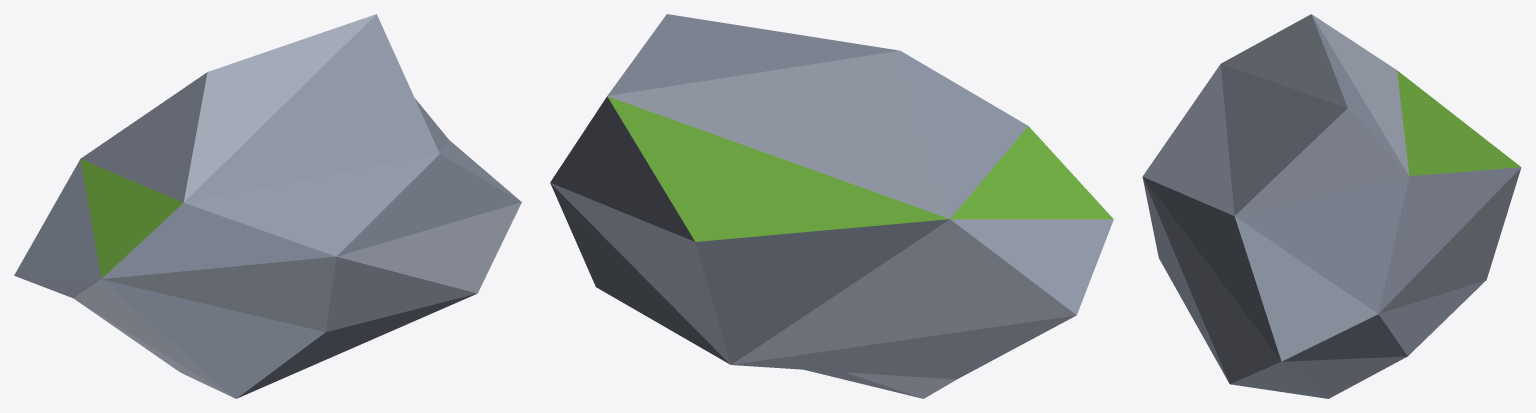
Rendered from roca_v4.glb.
3 views of the same model, side by side, from view 1: azimuth 30°, elevation 25°; view 2: azimuth 150°, elevation 25°; view 3: azimuth 270°, elevation 25° (orthographic). The views are drawn at different scales.
Visible parts, largest first — view 1: roca_roca, roca_roca_claro, roca_musgo; view 2: roca_roca, roca_roca_claro, roca_musgo; view 3: roca_roca, roca_roca_claro, roca_musgo.
Part boxes in pixels (bbox=[...]): roca_roca: bbox=[14, 14, 521, 398]; roca_roca_claro: bbox=[73, 14, 521, 398]; roca_musgo: bbox=[80, 159, 183, 278]; roca_roca: bbox=[550, 14, 1113, 398]; roca_roca_claro: bbox=[551, 50, 1076, 398]; roca_musgo: bbox=[607, 96, 1113, 241]; roca_roca: bbox=[1142, 15, 1520, 398]; roca_roca_claro: bbox=[1143, 14, 1520, 398]; roca_musgo: bbox=[1397, 70, 1520, 176].
Size of the model in its own units: 2.85 by 1.71 by 1.93.
